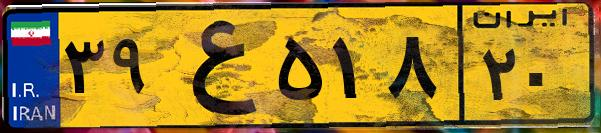0: (525, 38, 570, 115)
1: (330, 28, 385, 110)
2: (475, 38, 525, 113)
3: (57, 26, 110, 100)
5: (270, 28, 330, 110)
8: (385, 28, 445, 110)
9: (110, 28, 158, 98)
ع: (158, 12, 270, 120)
